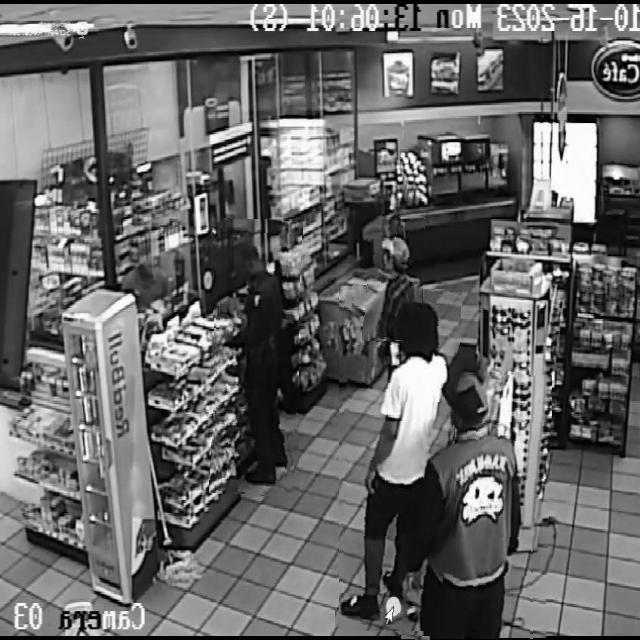Normal: (339, 286, 457, 631), (401, 372, 552, 640), (212, 219, 299, 496), (365, 214, 423, 342)
